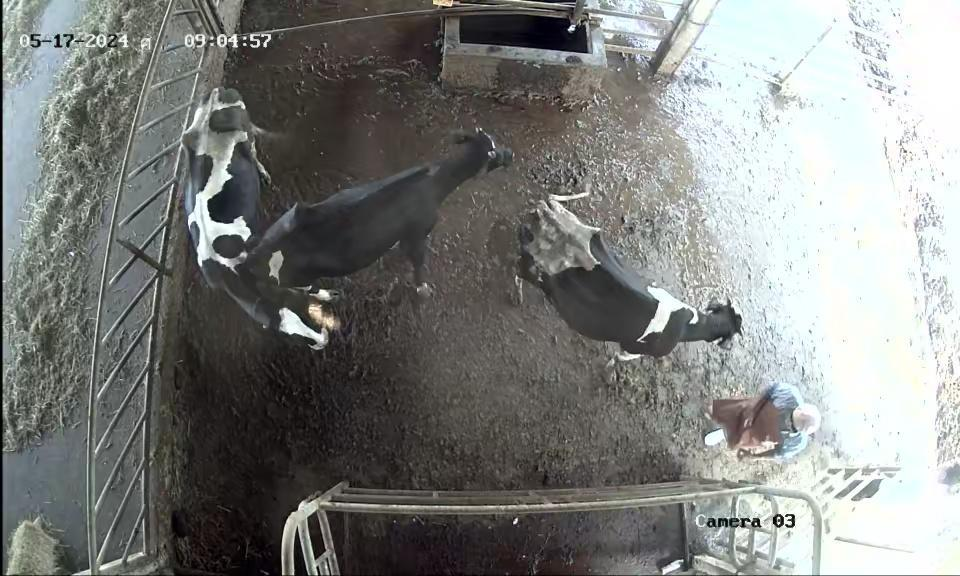stand: (245, 98, 518, 313), (512, 162, 743, 382), (180, 81, 333, 370)
